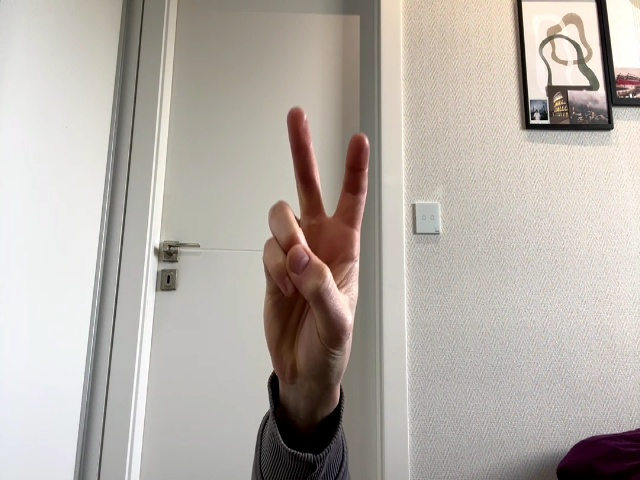H: (264, 107, 370, 390)
